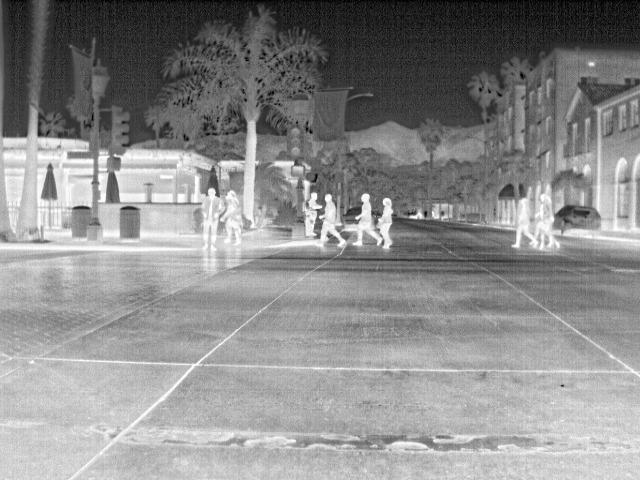car: (554, 204, 603, 237), (340, 206, 363, 229)
person: (317, 190, 351, 252), (352, 188, 384, 252), (508, 195, 538, 247), (219, 190, 245, 250), (203, 188, 223, 252), (536, 192, 558, 250), (380, 198, 396, 252), (306, 193, 323, 236)
